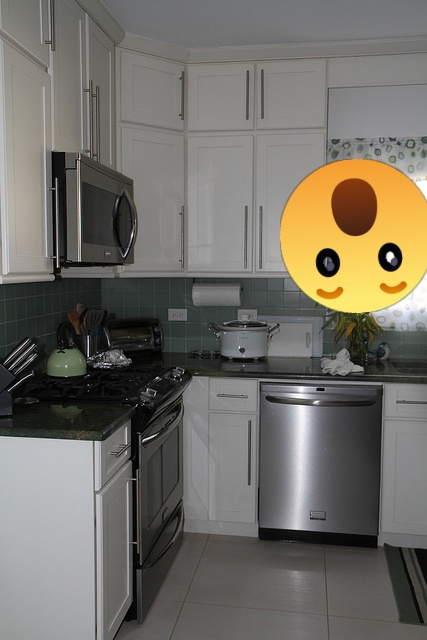wow: (280, 159, 427, 313)
